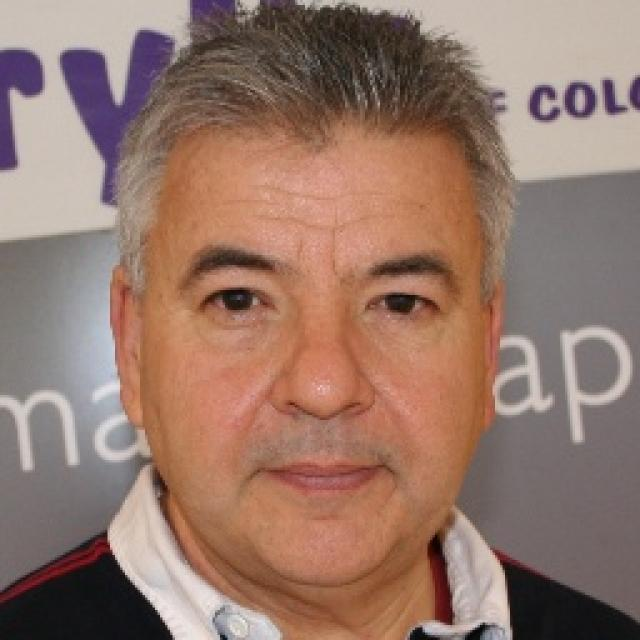earlobe: (109, 264, 146, 429), (480, 277, 506, 435)
